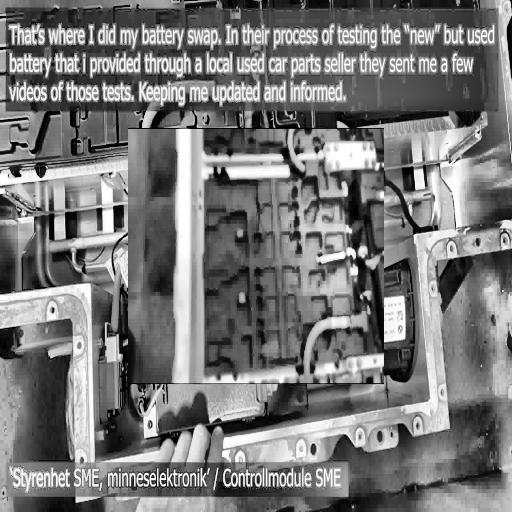high_volt_cable: (298, 308, 378, 386), (284, 124, 327, 180)
